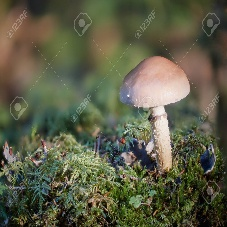mushroom: (119, 56, 191, 181)
